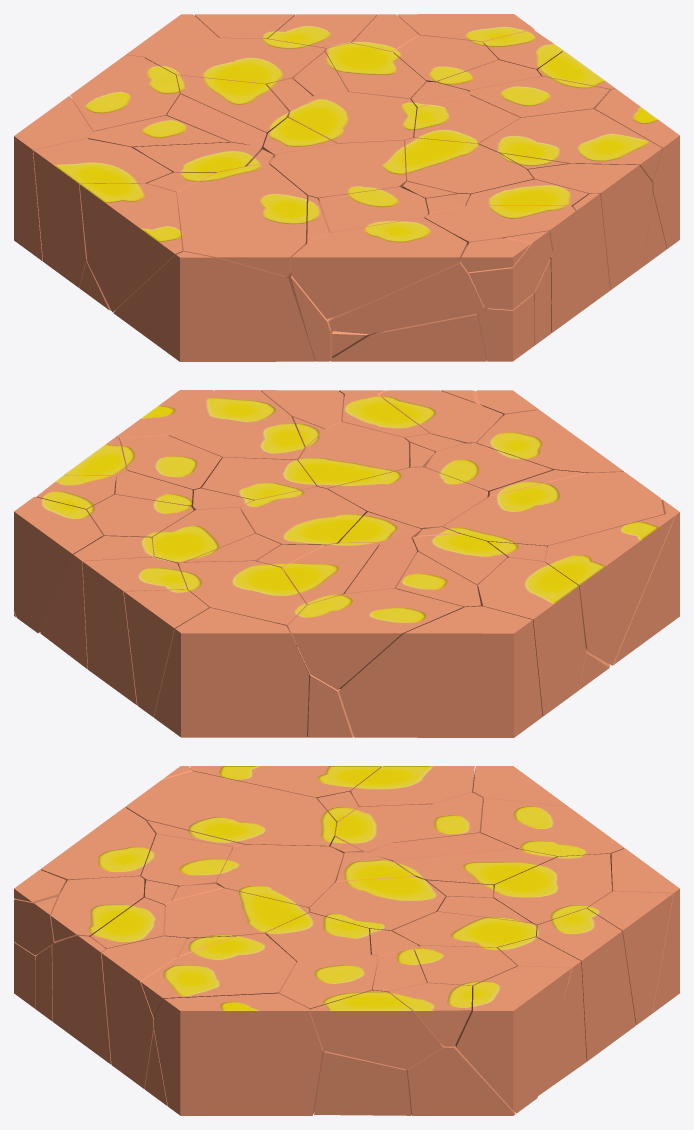
File: Hex70.fbx
The picture shows the model from 3 angles, top to bottom: view 1: azimuth 30°, elevation 25°; view 2: azimuth 150°, elevation 25°; view 3: azimuth 270°, elevation 25°; orthographic projection.
Visible parts, largest first — view 1: Hex1_cell.117, Hex1_cell.146, Hex1_cell.121, Hex1_cell.090, Hex1_cell.099, Hex1_cell.109, Hex1_cell.124, Hex1_cell.136, Hex1_cell.128, Hex1_cell.149, Hex1_cell.130, Hex1_cell.097 (+37 smaller); view 2: Hex1_cell.142, Hex1_cell.138, Hex1_cell.146, Hex1_cell.090, Hex1_cell.097, Hex1_cell.099, Hex1_cell.094, Hex1_cell.134, Hex1_cell.109, Hex1_cell.136, Hex1_cell.128, Hex1_cell.147 (+30 smaller); view 3: Hex1_cell.148, Hex1_cell.134, Hex1_cell.146, Hex1_cell.094, Hex1_cell.109, Hex1_cell.150, Hex1_cell.124, Hex1_cell.136, Hex1_cell.128, Hex1_cell.130, Hex1_cell.097, Hex1_cell.147 (+35 smaller).
Part boxes in pixels (x1=…): Hex1_cell.117: x1=113, y1=251, x2=314, y2=361; Hex1_cell.146: x1=177, y1=163, x2=306, y2=276; Hex1_cell.121: x1=291, y1=217, x2=467, y2=319; Hex1_cell.090: x1=79, y1=183, x2=182, y2=312; Hex1_cell.099: x1=33, y1=138, x2=172, y2=287; Hex1_cell.109: x1=479, y1=109, x2=662, y2=181; Hex1_cell.124: x1=527, y1=163, x2=652, y2=290; Hex1_cell.136: x1=269, y1=140, x2=407, y2=201; Hex1_cell.128: x1=144, y1=38, x2=325, y2=84; Hex1_cell.149: x1=329, y1=260, x2=484, y2=333; Hex1_cell.130: x1=550, y1=193, x2=609, y2=332; Hex1_cell.097: x1=70, y1=55, x2=179, y2=131; Hex1_cell.142: x1=339, y1=606, x2=542, y2=737; Hex1_cell.138: x1=154, y1=607, x2=309, y2=737; Hex1_cell.146: x1=443, y1=472, x2=663, y2=546; Hex1_cell.090: x1=545, y1=514, x2=675, y2=665; Hex1_cell.097: x1=288, y1=588, x2=462, y2=689; Hex1_cell.099: x1=477, y1=557, x2=585, y2=716; Hex1_cell.094: x1=82, y1=557, x2=187, y2=704; Hex1_cell.134: x1=14, y1=496, x2=102, y2=632; Hex1_cell.109: x1=168, y1=390, x2=304, y2=462; Hex1_cell.136: x1=327, y1=467, x2=487, y2=529; Hex1_cell.128: x1=179, y1=561, x2=306, y2=645; Hex1_cell.147: x1=124, y1=589, x2=209, y2=717; Hex1_cell.148: x1=154, y1=993, x2=323, y2=1115; Hex1_cell.134: x1=455, y1=966, x2=571, y2=1113; Hex1_cell.146: x1=125, y1=771, x2=336, y2=846; Hex1_cell.094: x1=535, y1=908, x2=635, y2=1061; Hex1_cell.109: x1=141, y1=933, x2=296, y2=1017; Hex1_cell.150: x1=310, y1=990, x2=442, y2=1069; Hex1_cell.124: x1=101, y1=936, x2=187, y2=1088; Hex1_cell.136: x1=216, y1=844, x2=343, y2=912; Hex1_cell.128: x1=494, y1=853, x2=611, y2=932; Hex1_cell.130: x1=52, y1=935, x2=111, y2=1064; Hex1_cell.097: x1=481, y1=798, x2=624, y2=857; Hex1_cell.147: x1=587, y1=891, x2=673, y2=1024.
Bounding box in the file's own units: 1 × 0.2003 × 1.15.
1 material, 1 textured.
